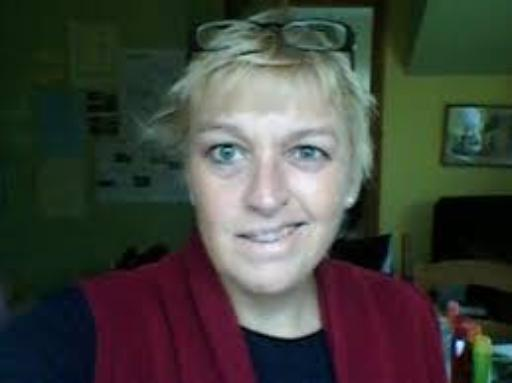left_eye: (286, 146, 336, 165)
left_lip_corner: (297, 220, 315, 233)
right_eye: (204, 143, 250, 167)
right_lip_corner: (229, 231, 251, 247)
